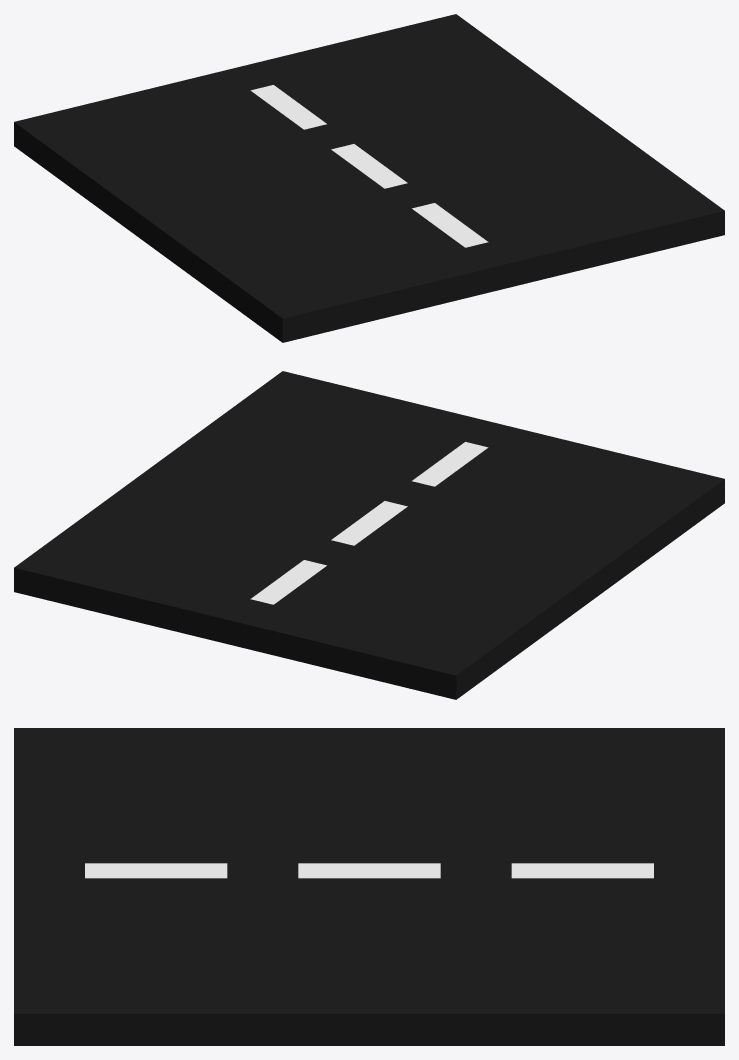
Rendered from ConstructionMaterials-68.obj.
3 renders of one model, top to bottom at view 1: azimuth 30°, elevation 25°; view 2: azimuth 150°, elevation 25°; view 3: azimuth 270°, elevation 25°, orthographic. The views are drawn at different scales.
Bounding box in the file's own units: 1.9 × 0.1 × 2.
1 material, 1 textured.
